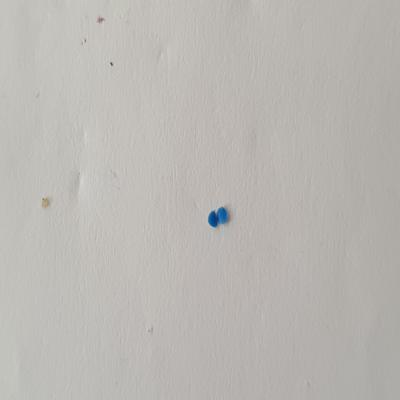plastic: (202, 204, 235, 230)
